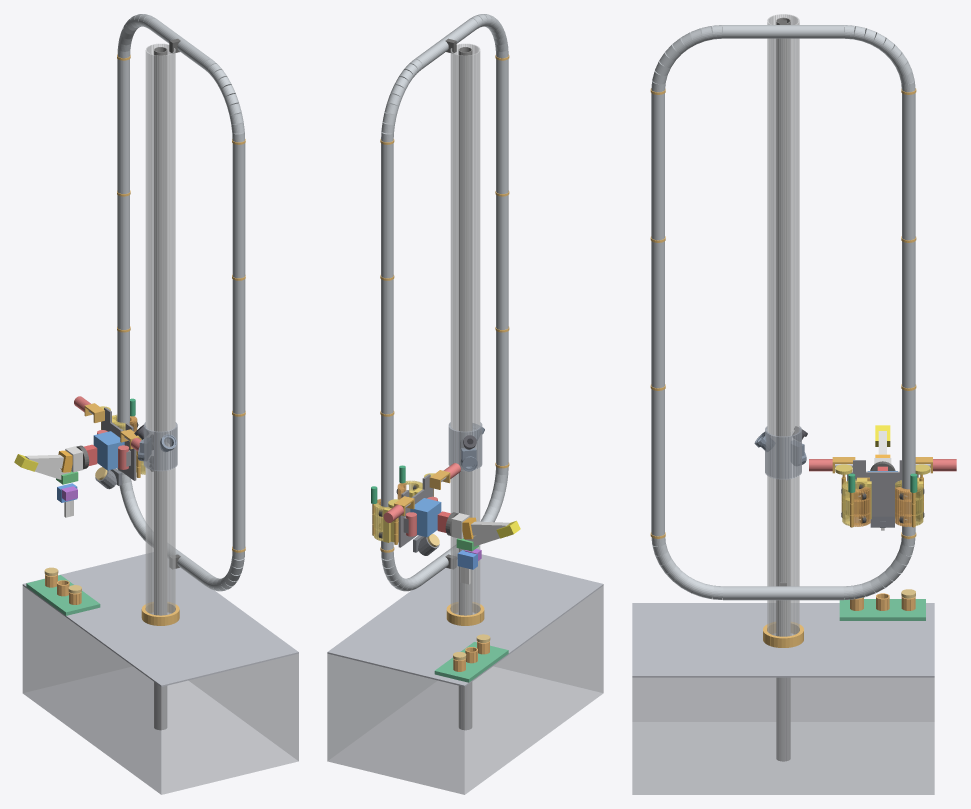
The model's file is transplant-seedling-step1-pick-v5.glb.
3 views of the same model, side by side, from view 1: azimuth 30°, elevation 25°; view 2: azimuth 150°, elevation 25°; view 3: azimuth 270°, elevation 25° (orthographic). The views are drawn at different scales.
Size of the model in its own units: 0.4837 by 1.9 by 0.751.
